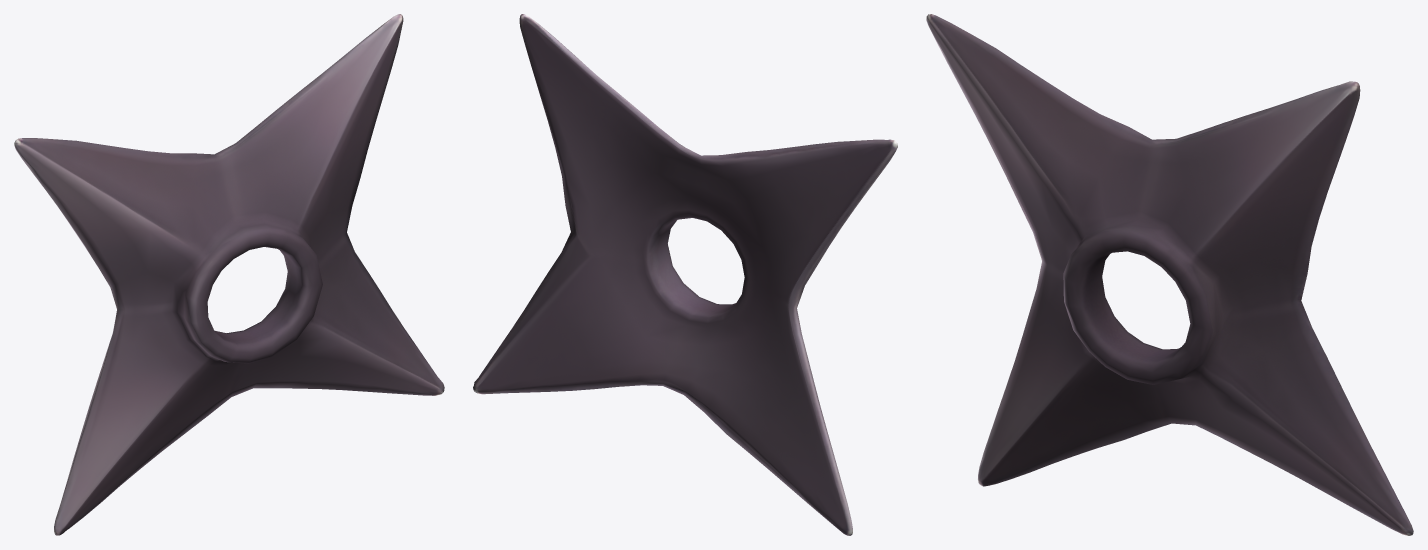
The model's file is jian.fbx.
3 renders of one model, left to right at view 1: azimuth 30°, elevation 25°; view 2: azimuth 150°, elevation 25°; view 3: azimuth 330°, elevation 25°, orthographic. The views are drawn at different scales.
Visible parts, largest first — view 1: model; view 2: model; view 3: model.
Part boxes in pixels (x1,y1,x2,y2): model: [14, 14, 444, 535]; model: [473, 14, 897, 535]; model: [926, 14, 1413, 535].
Size of the model in its own units: 39.64 by 39.01 by 5.54.
1 material, 1 textured.
